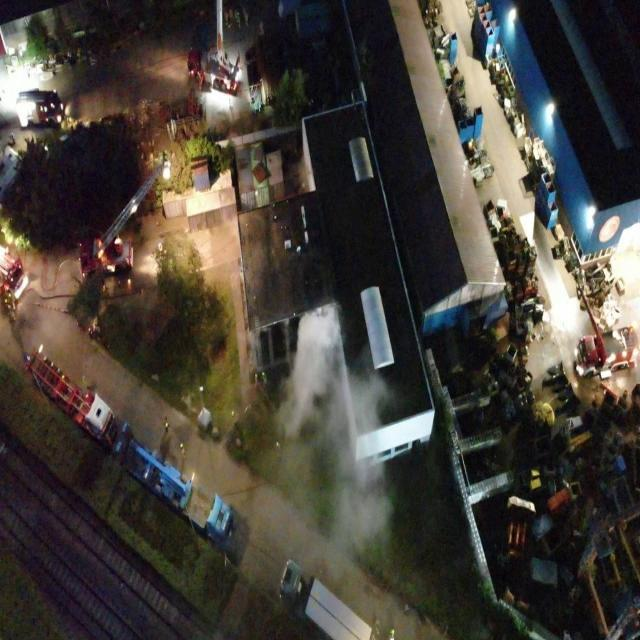Smoke: (253, 299, 395, 580), (286, 157, 312, 196)
